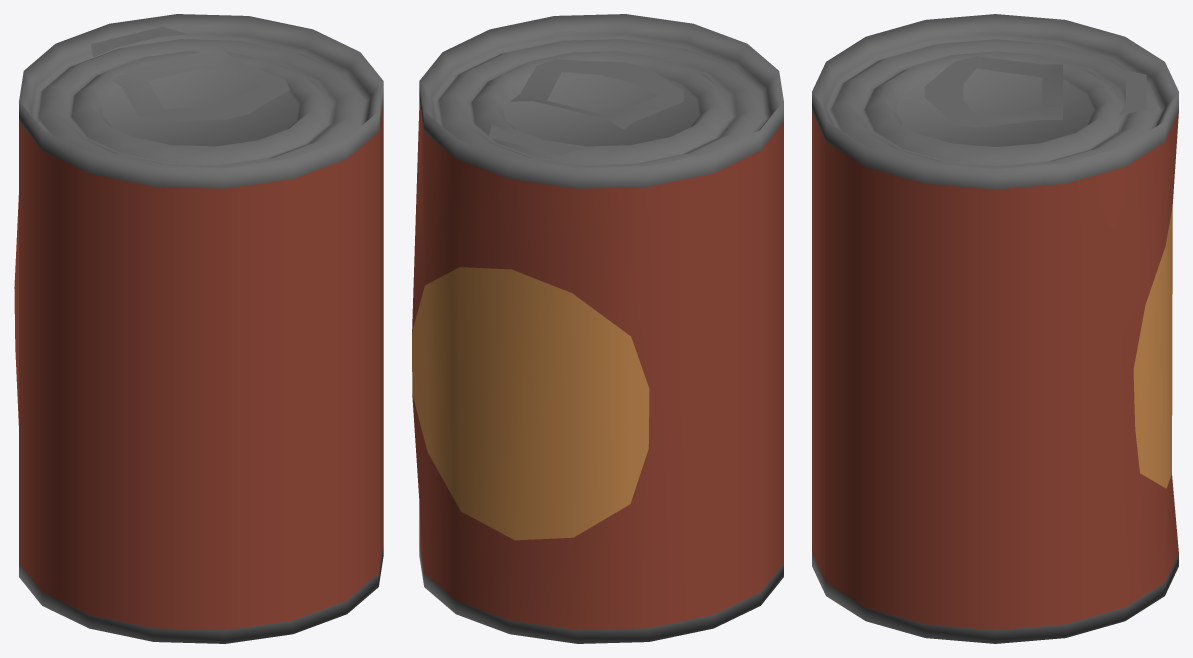
The model's file is labeled_can.glb.
The picture shows the model from 3 angles, left to right: view 1: azimuth 30°, elevation 25°; view 2: azimuth 150°, elevation 25°; view 3: azimuth 270°, elevation 25°; orthographic projection.
Parts seen in each view (by area): view 1: Plane; view 2: Plane; view 3: Plane.
Boxes of the visible parts, x1=… form: Plane: x1=14, y1=14, x2=383, y2=643; Plane: x1=412, y1=14, x2=783, y2=643; Plane: x1=812, y1=14, x2=1178, y2=643.
Bounding box in the file's own units: 1.4 × 2.03 × 1.4.
